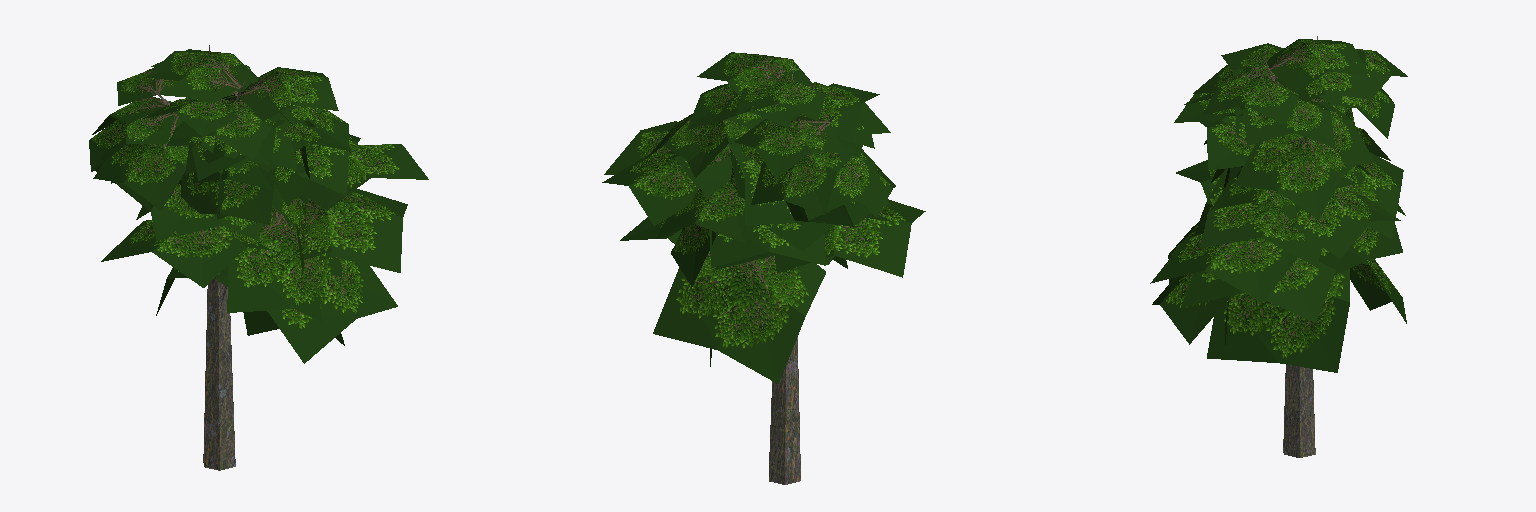
3 renders of one model, left to right at view 1: azimuth 30°, elevation 25°; view 2: azimuth 150°, elevation 25°; view 3: azimuth 270°, elevation 25°, orthographic.
Parts seen in each view (by area): view 1: Default; view 2: Default; view 3: Default.
Part boxes in pixels (x1,y1,x2,y2): Default: (89,45,428,470); Default: (602,52,925,484); Default: (1150,36,1407,457).
Bounding box in the file's own units: 10.88 × 14.83 × 8.39.
2 materials, 2 textured.